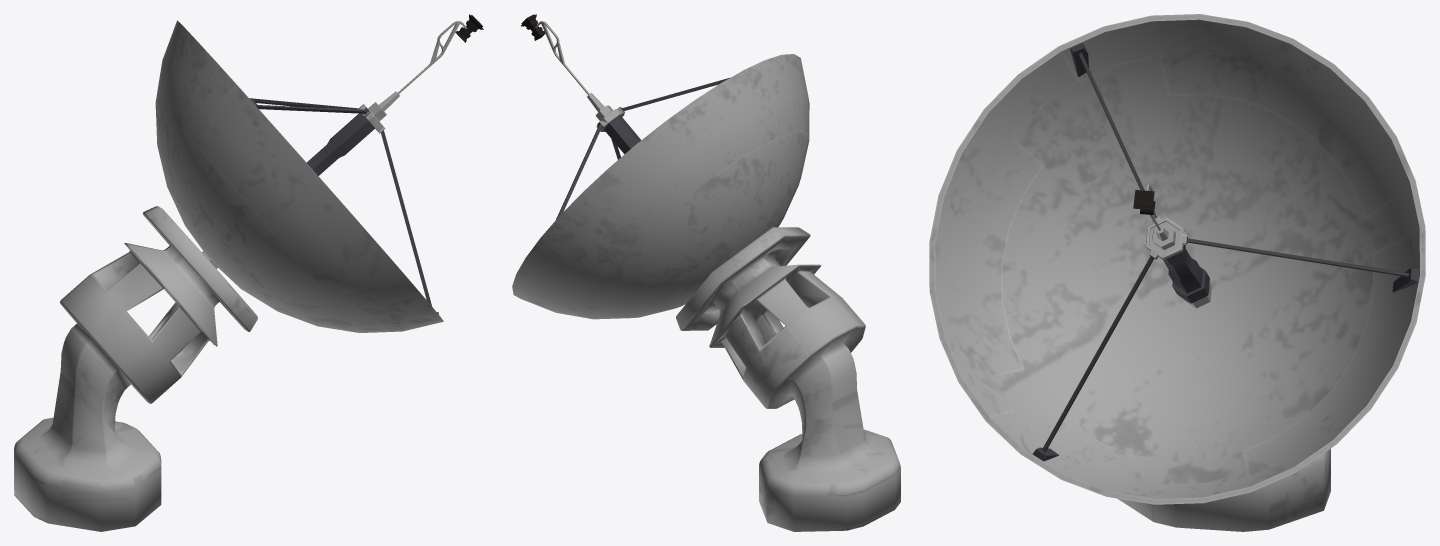
File: Antenna (2).fbx
3 views of the same model, side by side, from view 1: azimuth 30°, elevation 25°; view 2: azimuth 150°, elevation 25°; view 3: azimuth 270°, elevation 25° (orthographic). The views are drawn at different scales.
Visible parts, largest first — view 1: Sphere.002, Sphere.001; view 2: Sphere.002, Sphere.001; view 3: Sphere.002, Sphere.001.
Boxes of the visible parts, x1,y1,x2,y2 form: Sphere.002: [155, 14, 483, 332]; Sphere.001: [14, 206, 257, 531]; Sphere.002: [512, 14, 809, 319]; Sphere.001: [676, 227, 900, 531]; Sphere.002: [929, 14, 1425, 504]; Sphere.001: [1118, 448, 1330, 531].
Bounding box in the file's own units: 265 × 259 × 215.
